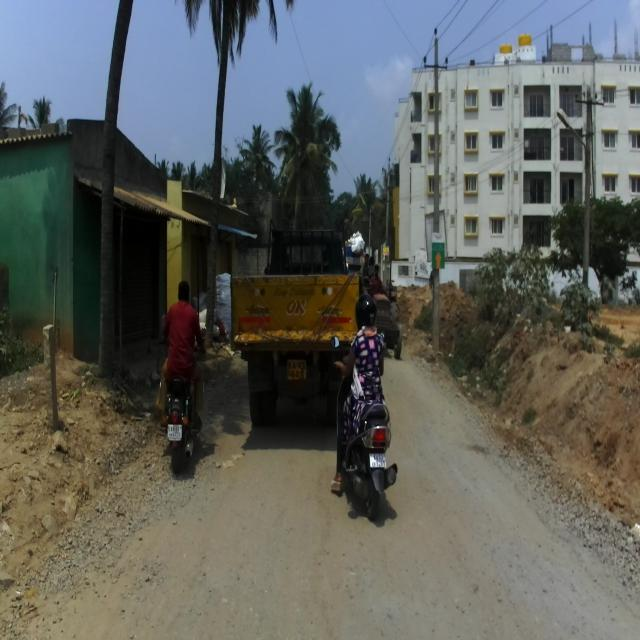motorcycle ahead at: (331, 400, 398, 524), (160, 370, 206, 476)
truck ahead at: (232, 262, 352, 421)
